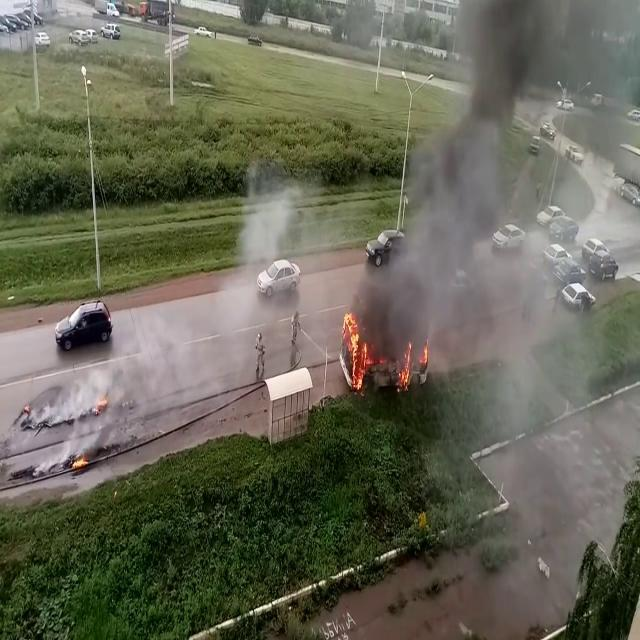Fire: (339, 304, 371, 394), (397, 332, 431, 396)
Smoke: (374, 0, 640, 400), (93, 175, 293, 465)
